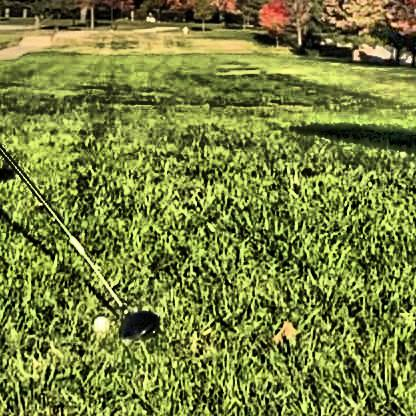golfball: (91, 312, 106, 329)
